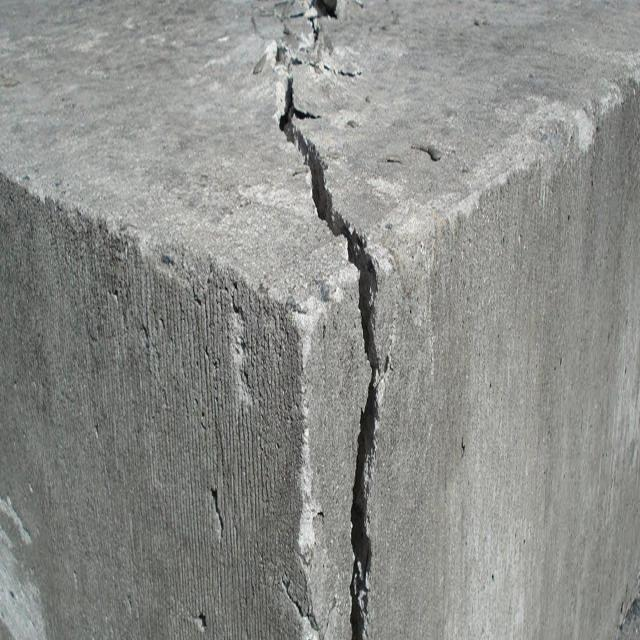Crack: (273, 0, 373, 266), (344, 266, 390, 640), (280, 576, 312, 626), (208, 484, 228, 537)
